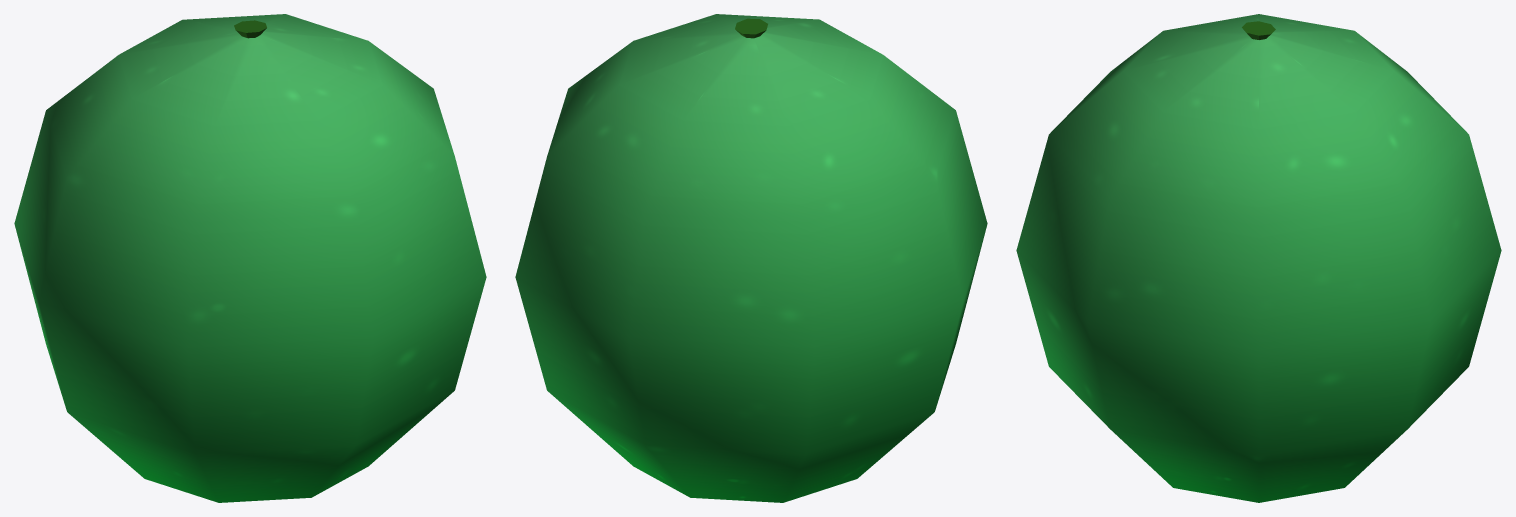
Rendered from lime.fbx.
3 views of the same model, side by side, from view 1: azimuth 30°, elevation 25°; view 2: azimuth 150°, elevation 25°; view 3: azimuth 270°, elevation 25° (orthographic).
Parts seen in each view (by area): view 1: lime_mesh; view 2: lime_mesh; view 3: lime_mesh.
Boxes of the visible parts, bbox=[...] form: lime_mesh: bbox=[14, 14, 486, 502]; lime_mesh: bbox=[515, 14, 987, 502]; lime_mesh: bbox=[1016, 14, 1501, 502].
Size of the model in its own units: 1.02 by 1.03 by 1.02.
